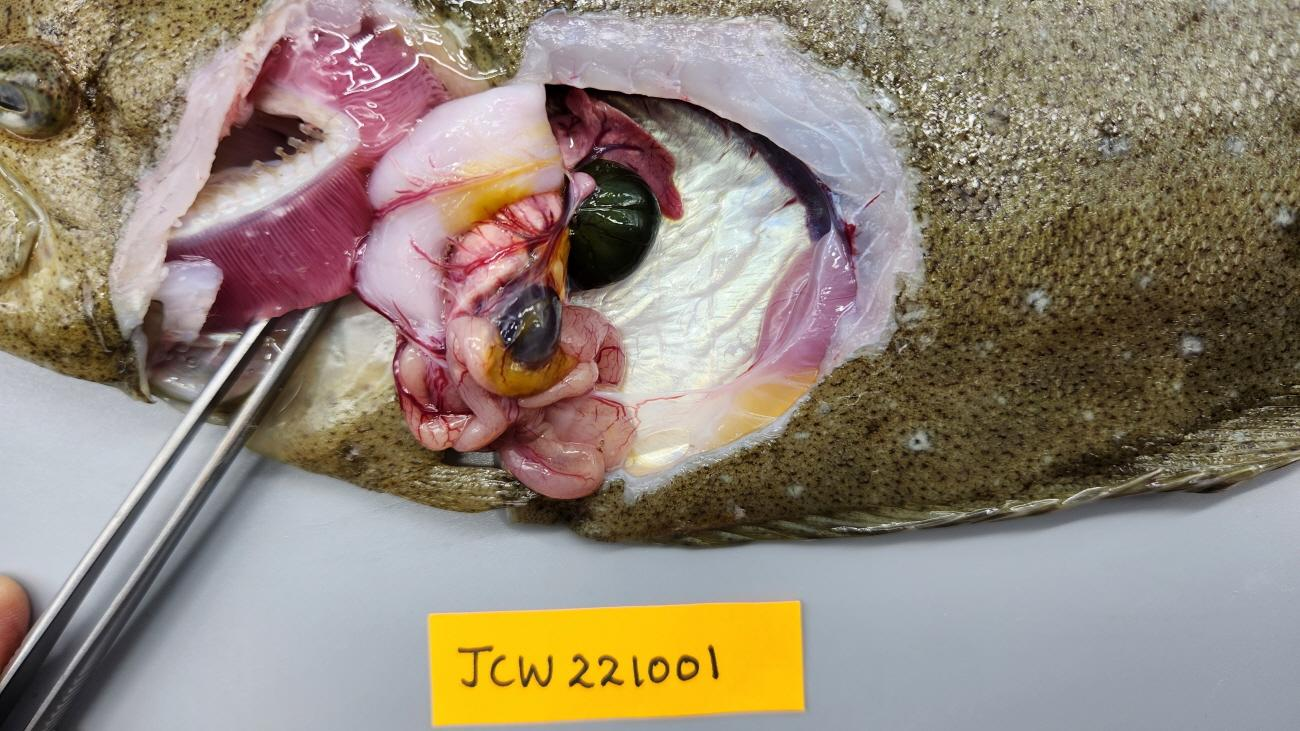POINN: (445, 305, 624, 499)
POSPN: (500, 283, 563, 371)
